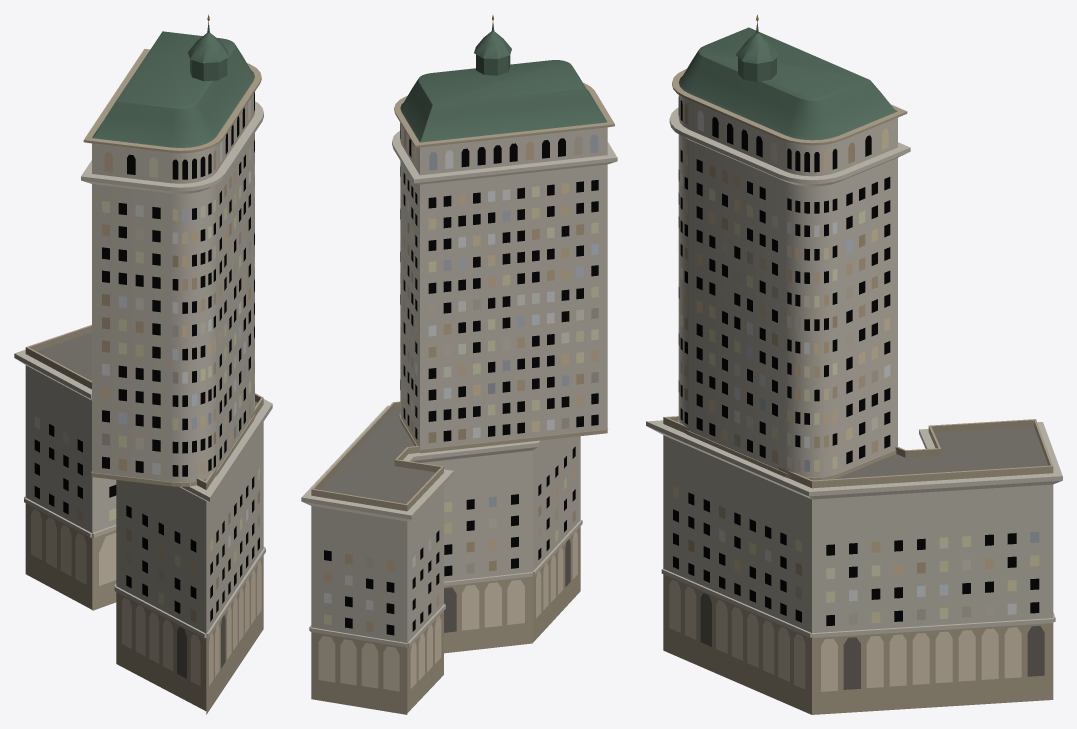
The model's file is hobart_lod1.glb.
3 renders of one model, left to right at view 1: azimuth 30°, elevation 25°; view 2: azimuth 150°, elevation 25°; view 3: azimuth 270°, elevation 25°, orthographic. The views are drawn at different scales.
Visible parts, largest first — view 1: L1_stone, L1_win, L1_paint, L1_shop, L1_metal, L1_roof; view 2: L1_stone, L1_win, L1_paint, L1_shop, L1_roof, L1_metal; view 3: L1_stone, L1_win, L1_shop, L1_paint, L1_roof, L1_metal.
Part boxes in pixels (bbox=[...]): L1_stone: bbox=[14, 48, 272, 714]; L1_win: bbox=[34, 92, 259, 622]; L1_paint: bbox=[92, 31, 254, 147]; L1_shop: bbox=[31, 509, 261, 686]; L1_metal: bbox=[188, 22, 229, 81]; L1_roof: bbox=[37, 332, 257, 406]; L1_stone: bbox=[301, 83, 617, 714]; L1_win: bbox=[324, 123, 598, 635]; L1_paint: bbox=[400, 60, 606, 142]; L1_shop: bbox=[318, 531, 577, 691]; L1_roof: bbox=[319, 408, 435, 503]; L1_metal: bbox=[474, 21, 511, 75]; L1_stone: bbox=[646, 69, 1062, 714]; L1_win: bbox=[673, 97, 1039, 626]; L1_shop: bbox=[669, 579, 1044, 691]; L1_paint: bbox=[679, 27, 897, 140]; L1_roof: bbox=[812, 427, 1048, 479]; L1_metal: bbox=[736, 22, 778, 81].
Size of the model in its own units: 34.36 by 97.13 by 55.54.
